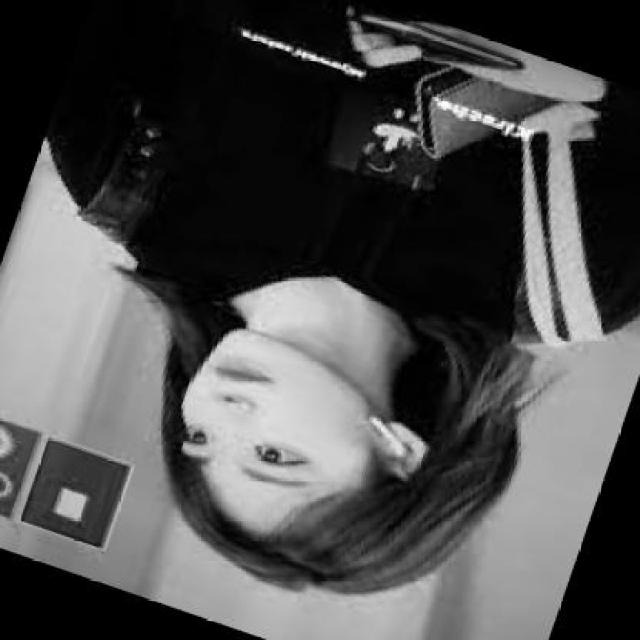earphone: (347, 402, 433, 487)
